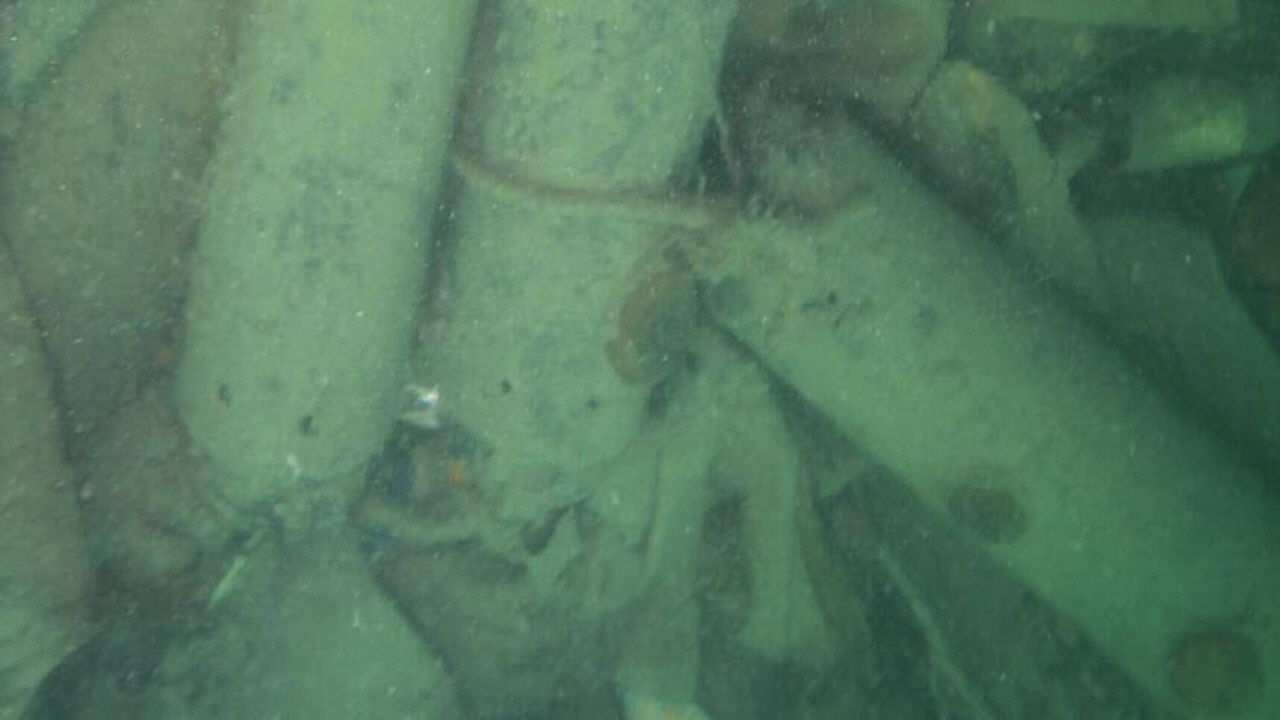bundle of ropes: (443, 89, 887, 282)
eel fish trap: (707, 103, 1279, 720), (423, 1, 737, 508), (168, 0, 478, 475)
